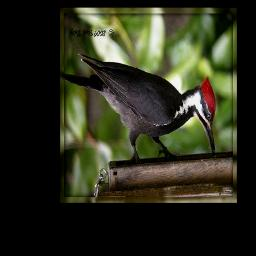Woodpecker: (61, 52, 216, 162)
